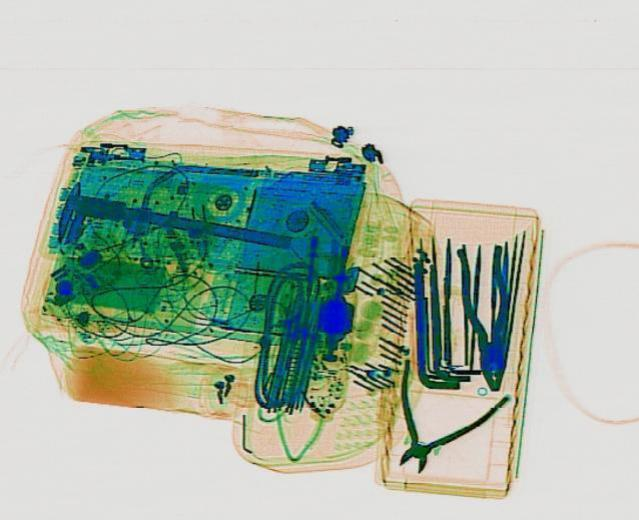Pliers: (355, 355, 515, 484), (451, 241, 519, 389)
